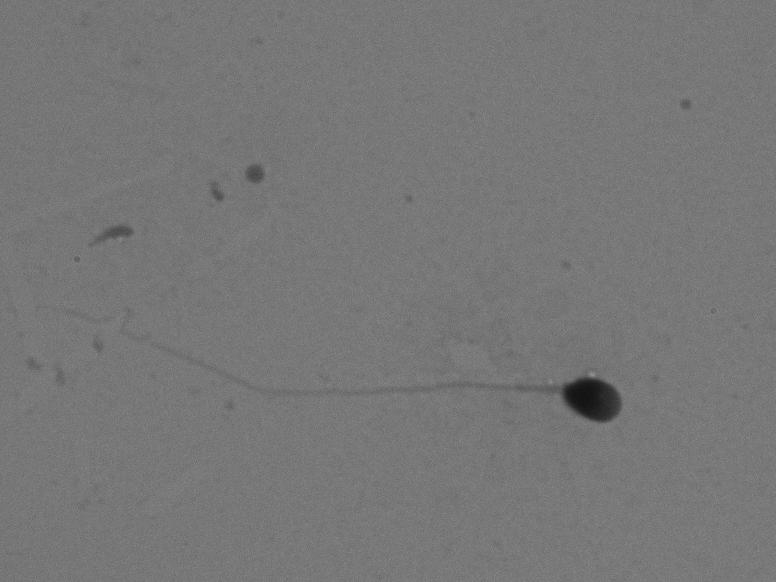Normal: (31, 287, 627, 430)
